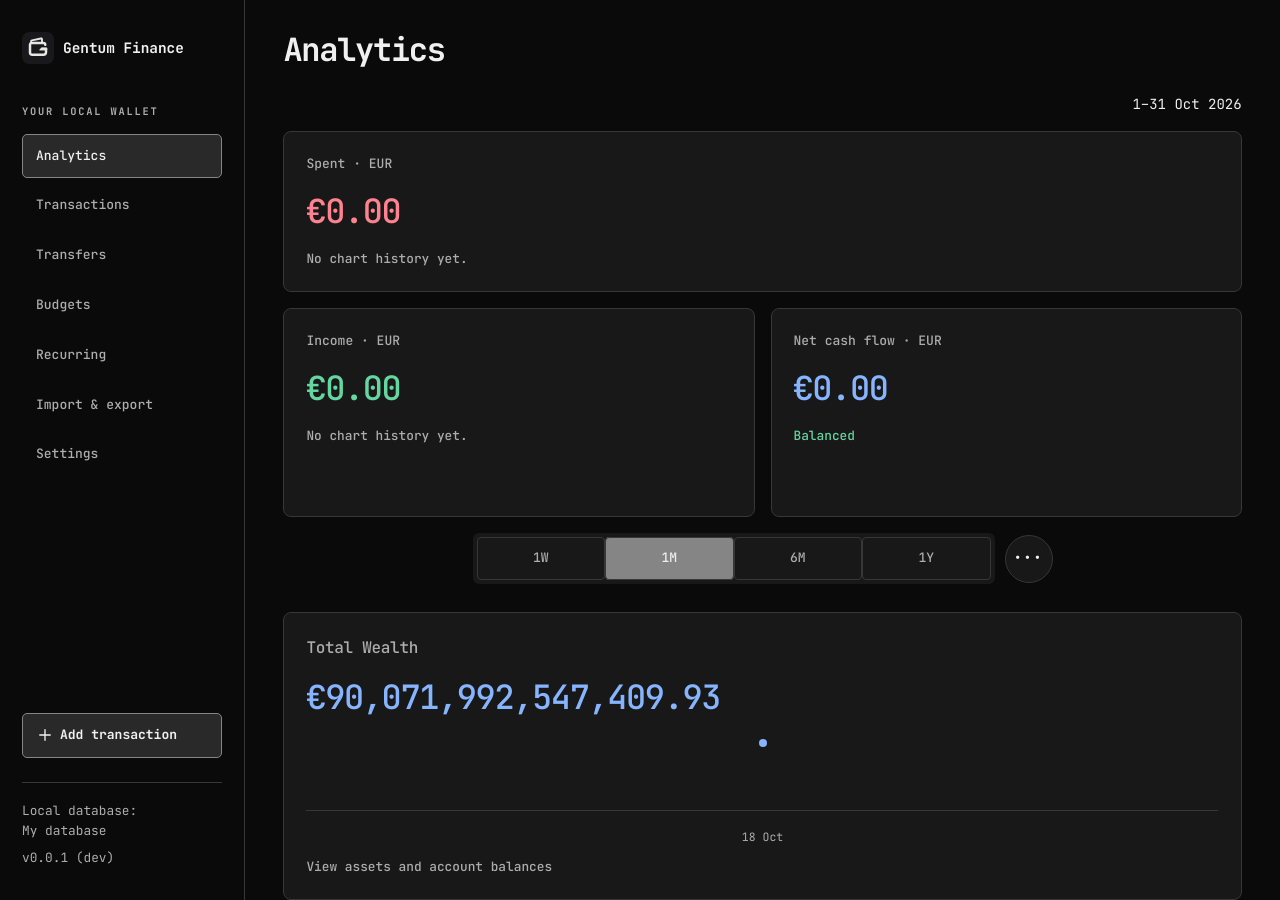
Test: confirms or cancels category deletion and displays server rejection
The image size is (1280, 900).
Check: the heading "Total Wealth" is shown, box top-left (306, 635), bottom-right (418, 661)
Step 1. Click the button "Settings" → (122,455), box top-left (22, 432), bottom-right (222, 477)
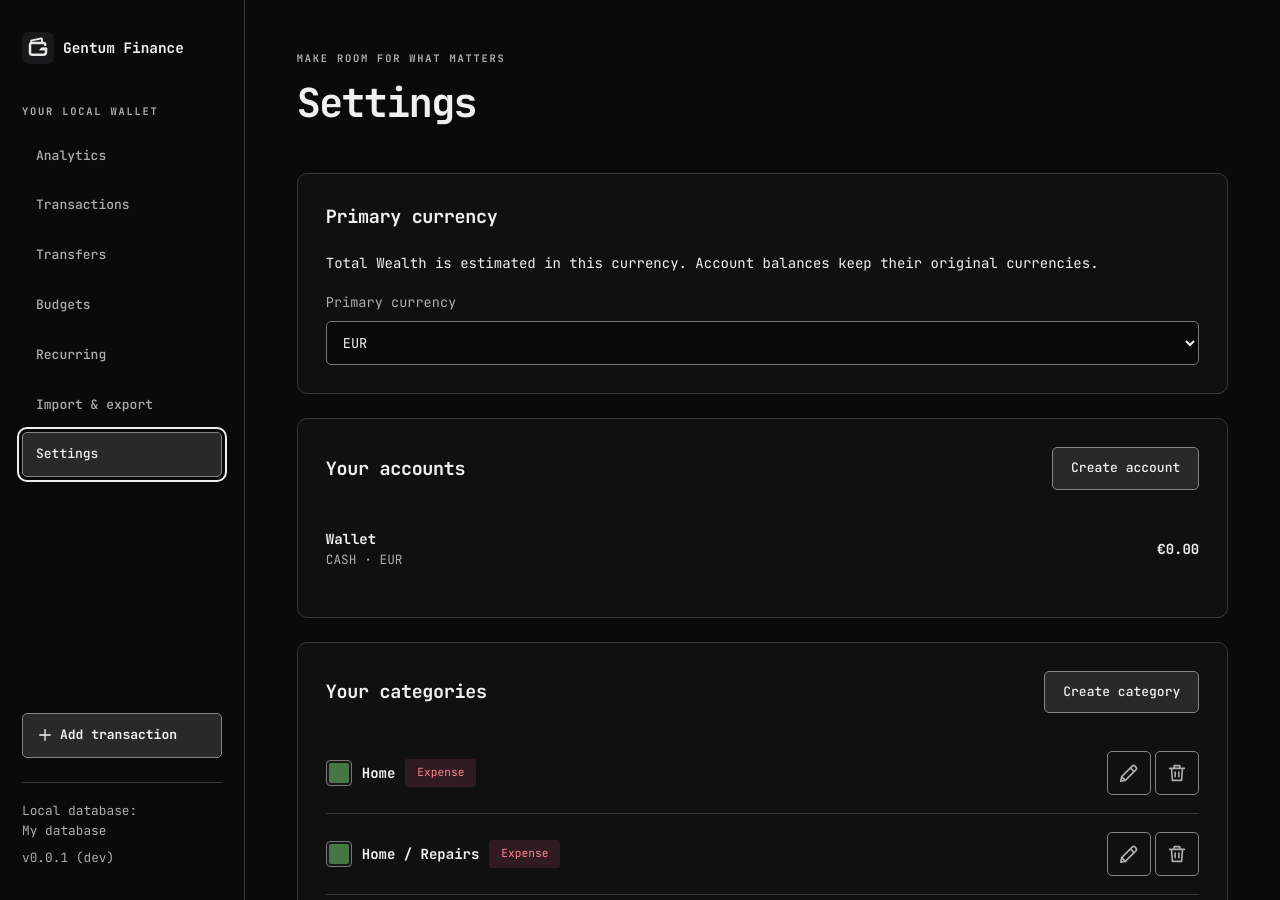
Step 2. Click the button named "Delete Home / Repairs" → (1177,854), box top-left (1155, 832), bottom-right (1199, 876)
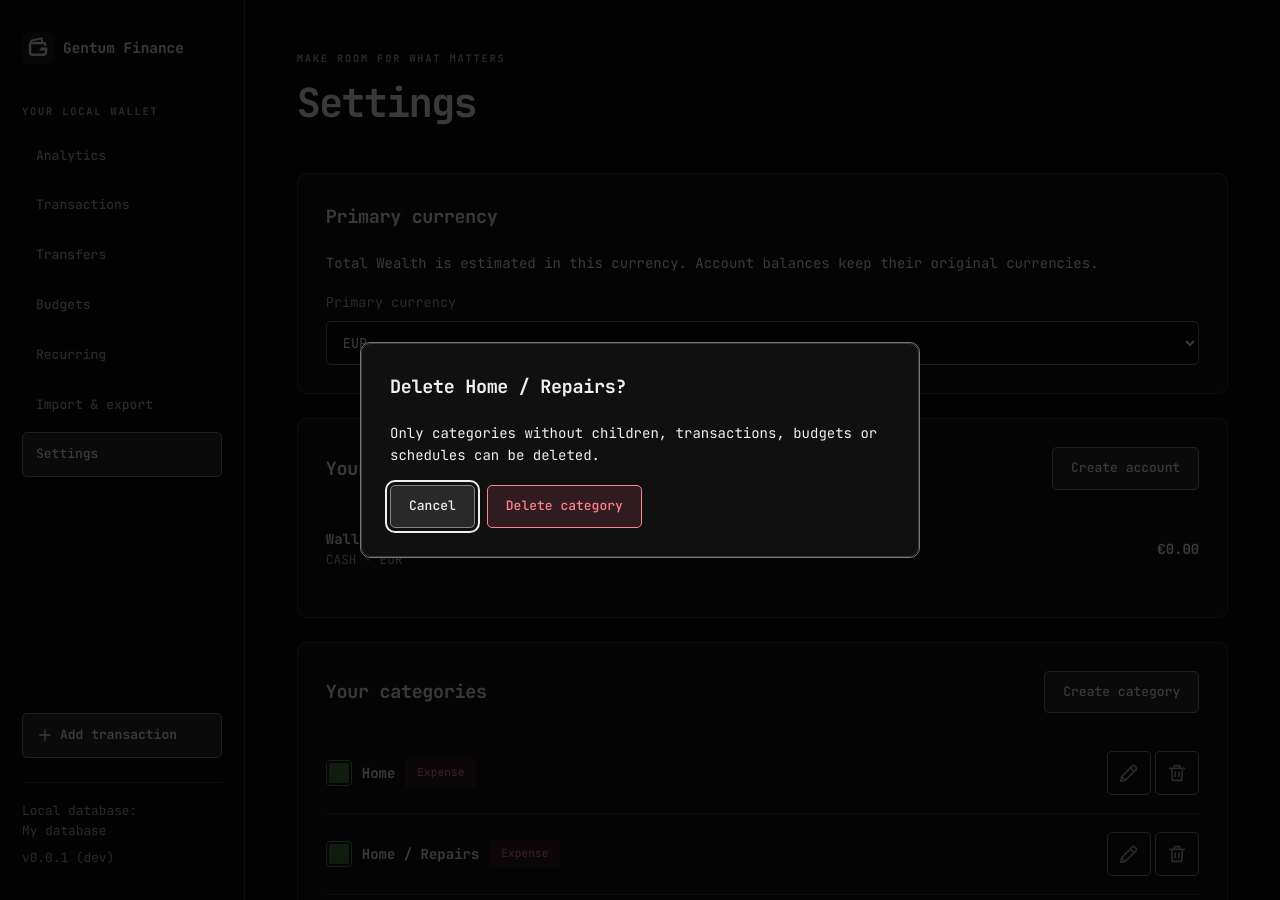
Step 3. Click the button "Cancel" → (432,506), box top-left (390, 485), bottom-right (475, 528)
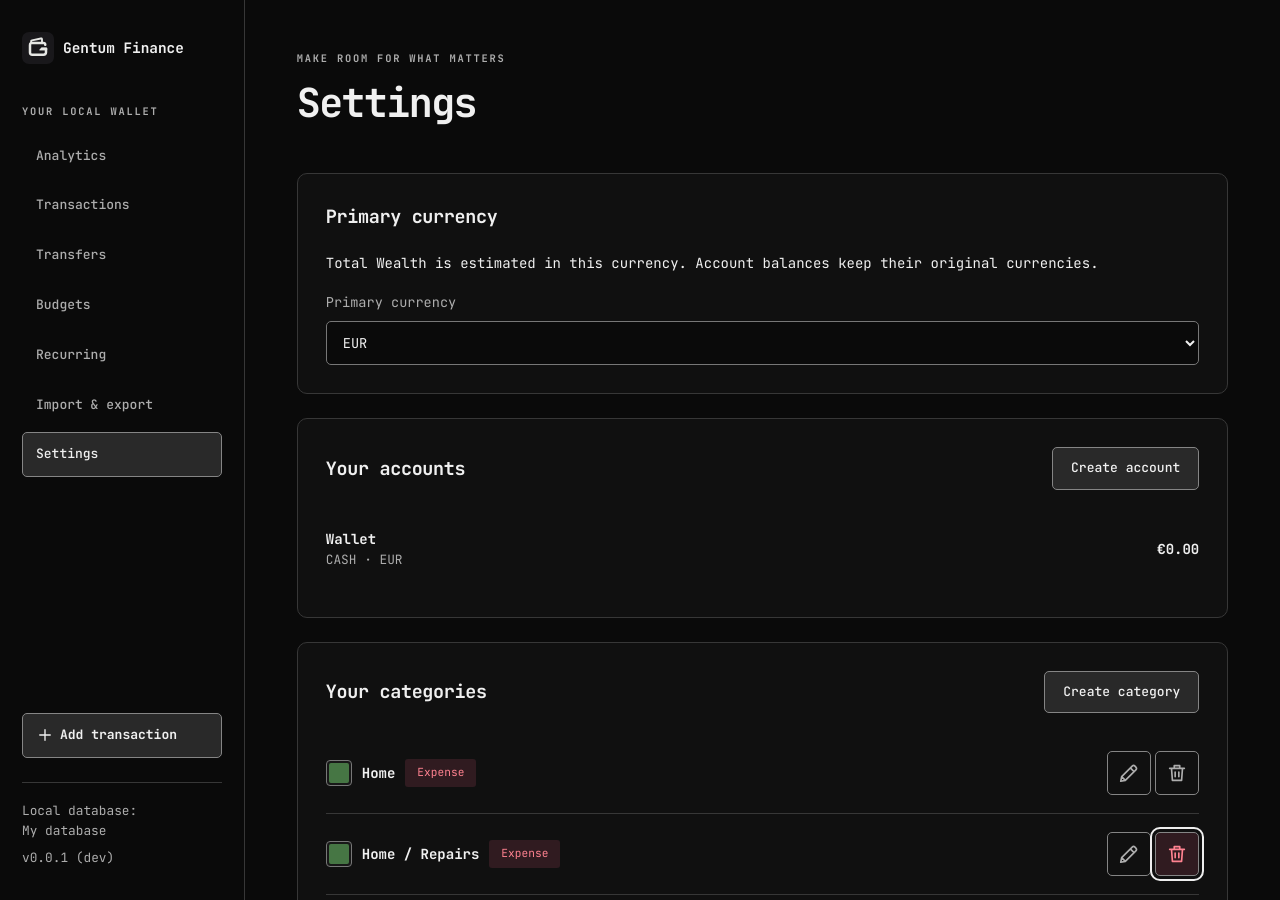
Step 4. Click the button named "Delete Home / Repairs" → (1177,854), box top-left (1155, 832), bottom-right (1199, 876)
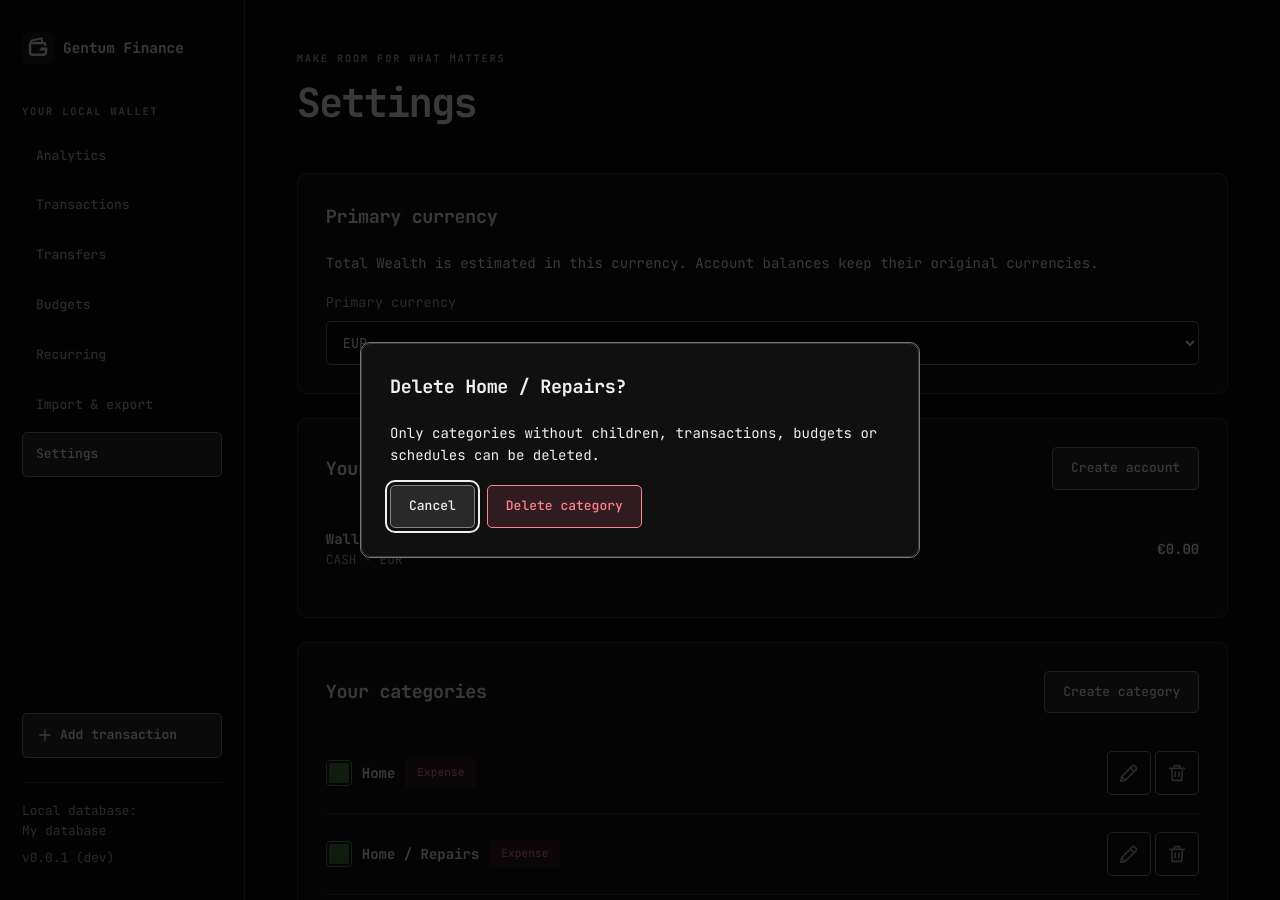
Step 5. Click the button "Delete category" → (564,506), box top-left (487, 485), bottom-right (642, 528)
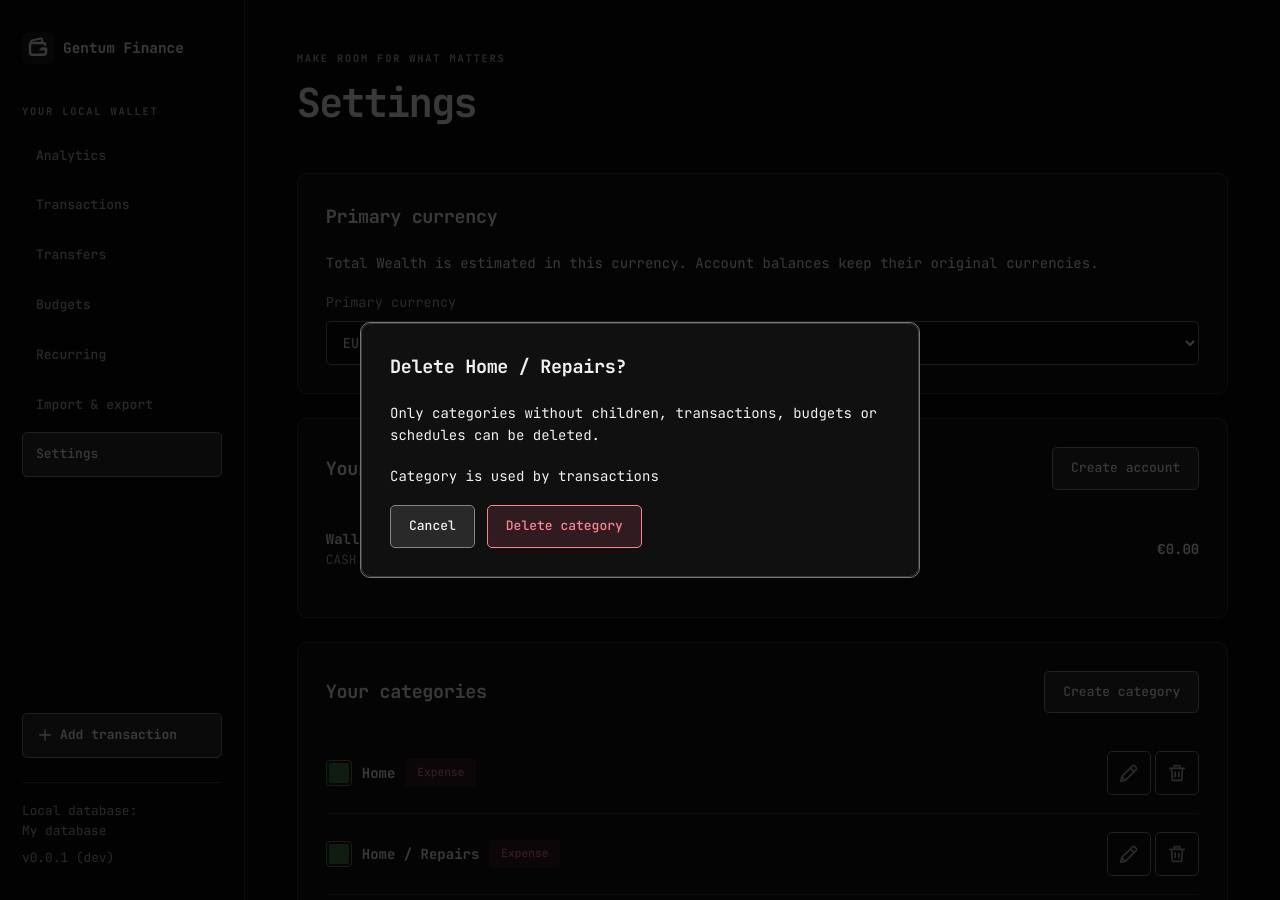
Check: the text "Category is used by transactions" is shown, box top-left (390, 466), bottom-right (659, 484)
Step 6. Click the button "Delete category" → (564,526), box top-left (487, 505), bottom-right (642, 548)
(page scrolled)
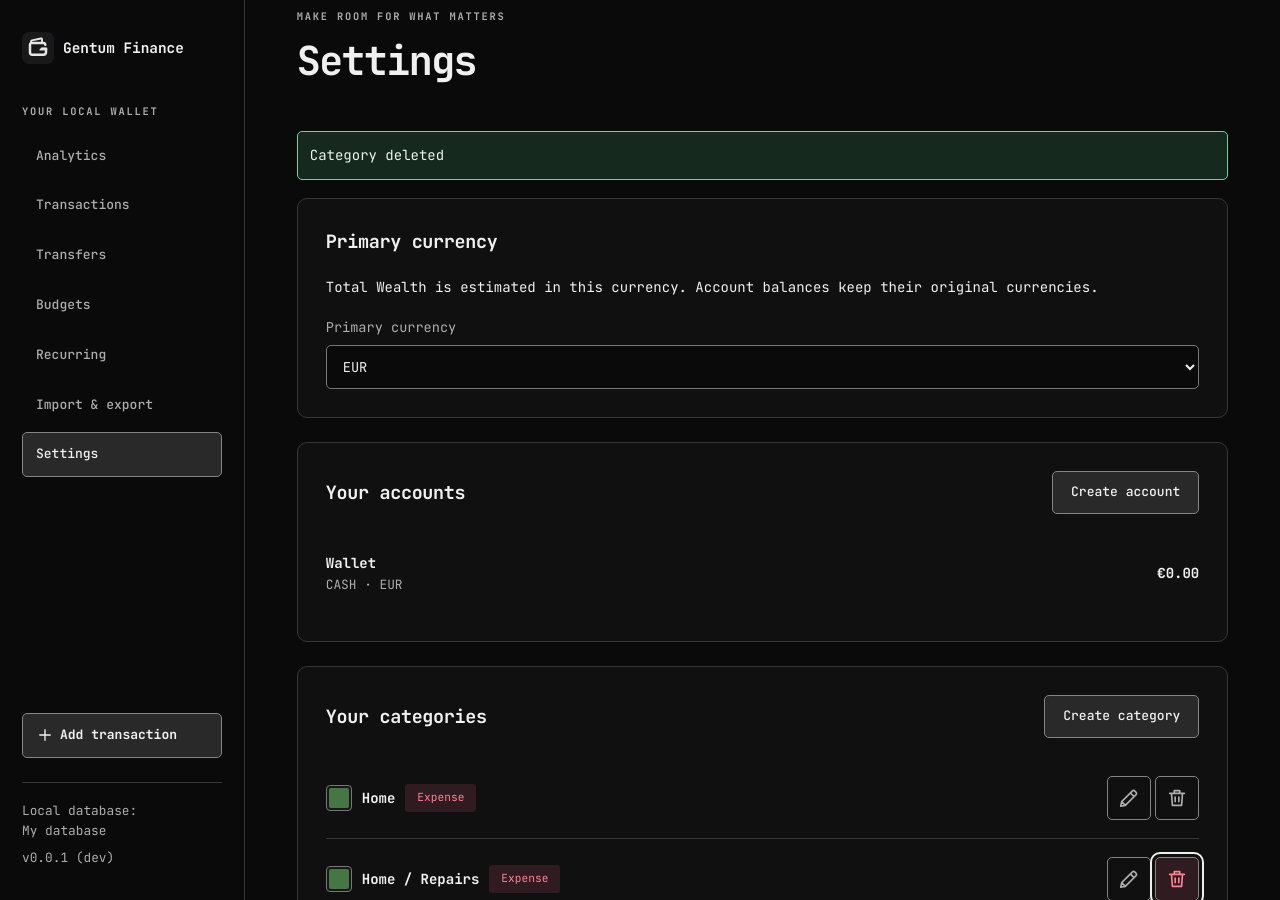
Check: the text "Category deleted" is shown, box top-left (297, 131), bottom-right (1228, 180)
Check: the dialog is gone
